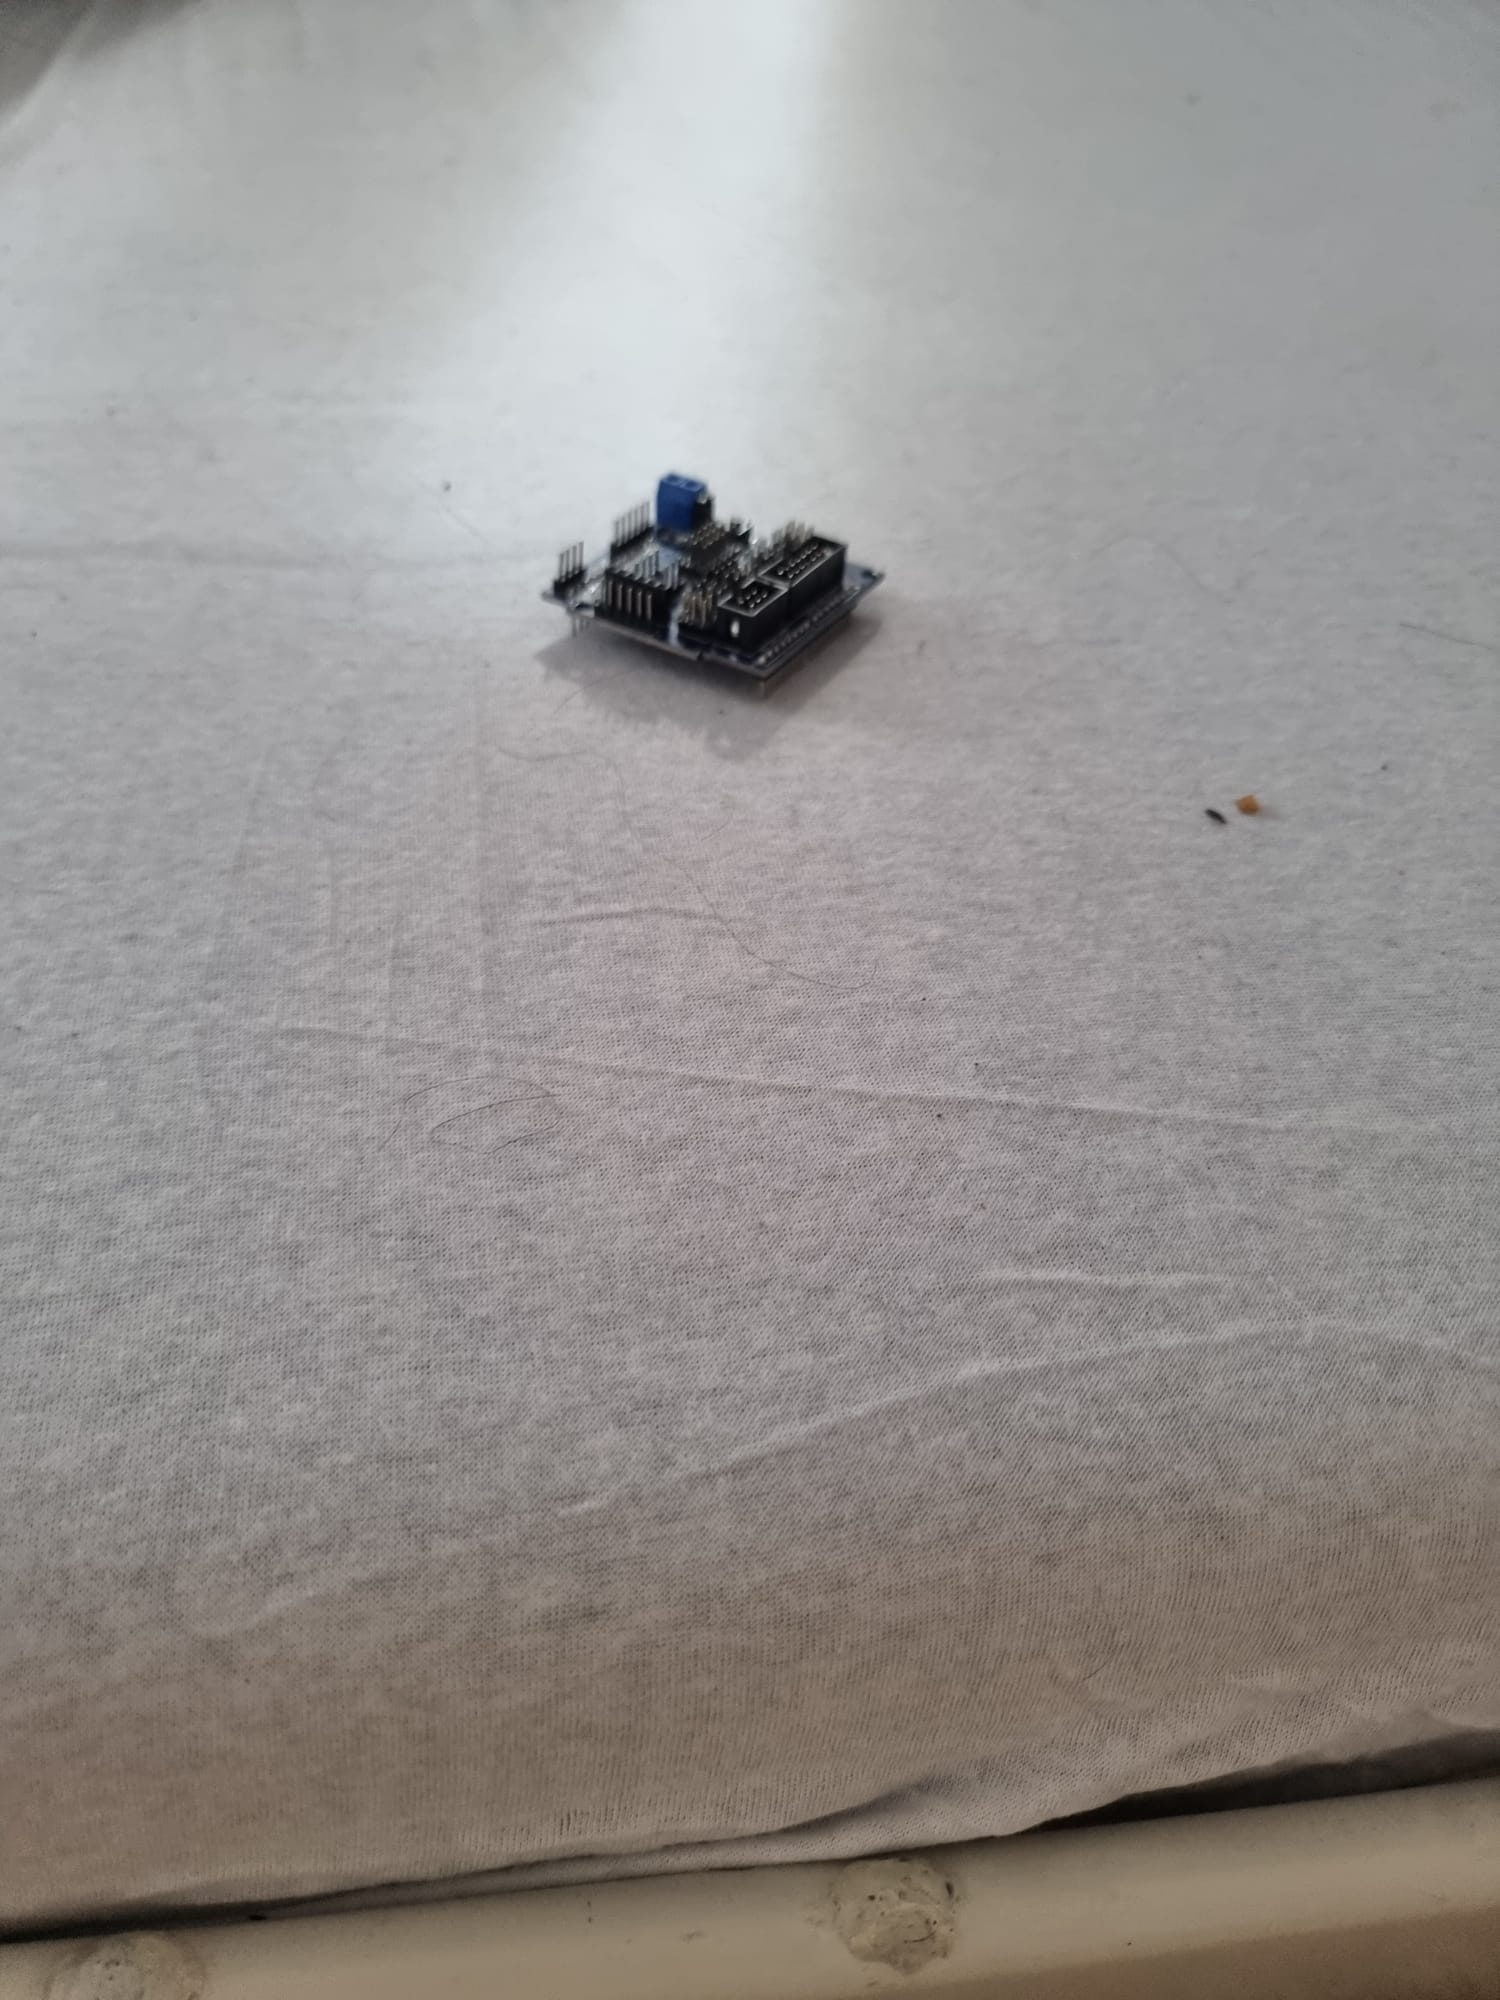5V EXPANSION: (537, 469, 895, 685)
